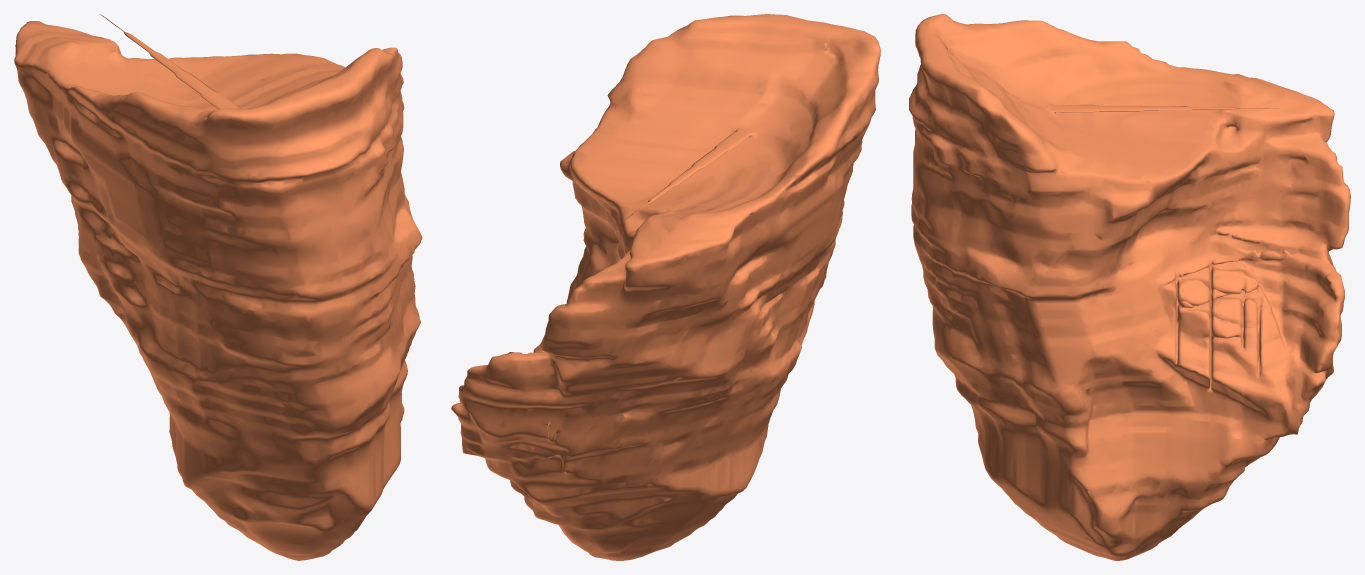
The model's file is llung2.glb.
3 views of the same model, side by side, from view 1: azimuth 30°, elevation 25°; view 2: azimuth 150°, elevation 25°; view 3: azimuth 270°, elevation 25° (orthographic). The views are drawn at different scales.
Parts seen in each view (by area): view 1: Left Lung; view 2: Left Lung; view 3: Left Lung.
Part boxes in pixels (x1=…): Left Lung: x1=14, y1=14, x2=422, y2=560; Left Lung: x1=451, y1=14, x2=880, y2=560; Left Lung: x1=909, y1=14, x2=1350, y2=560.
Bounding box in the file's own units: 16.84 × 28.87 × 24.89.
